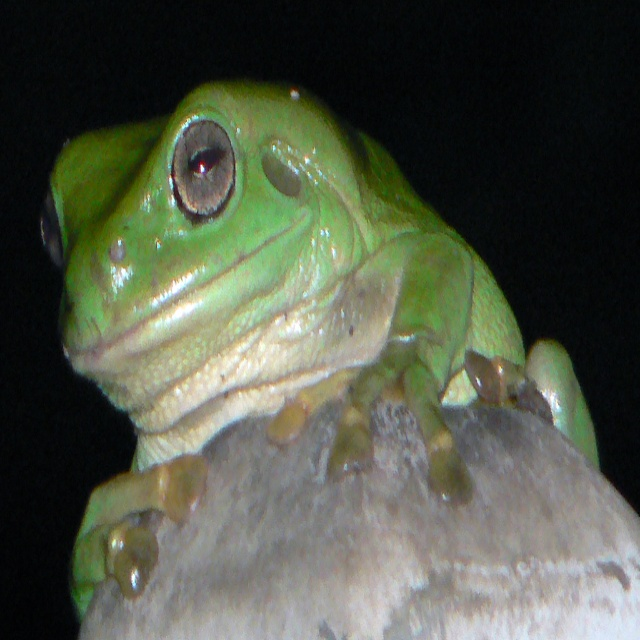Frog: (36, 77, 601, 626)
